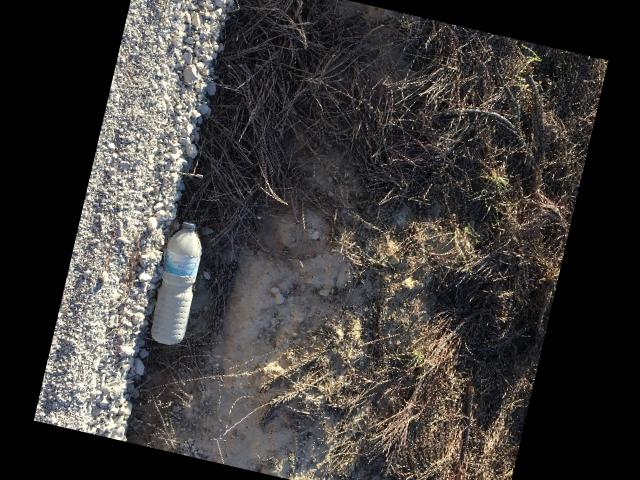plastic: (150, 221, 200, 344)
